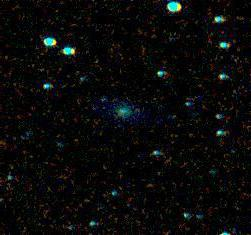star: (134, 171, 164, 201)
